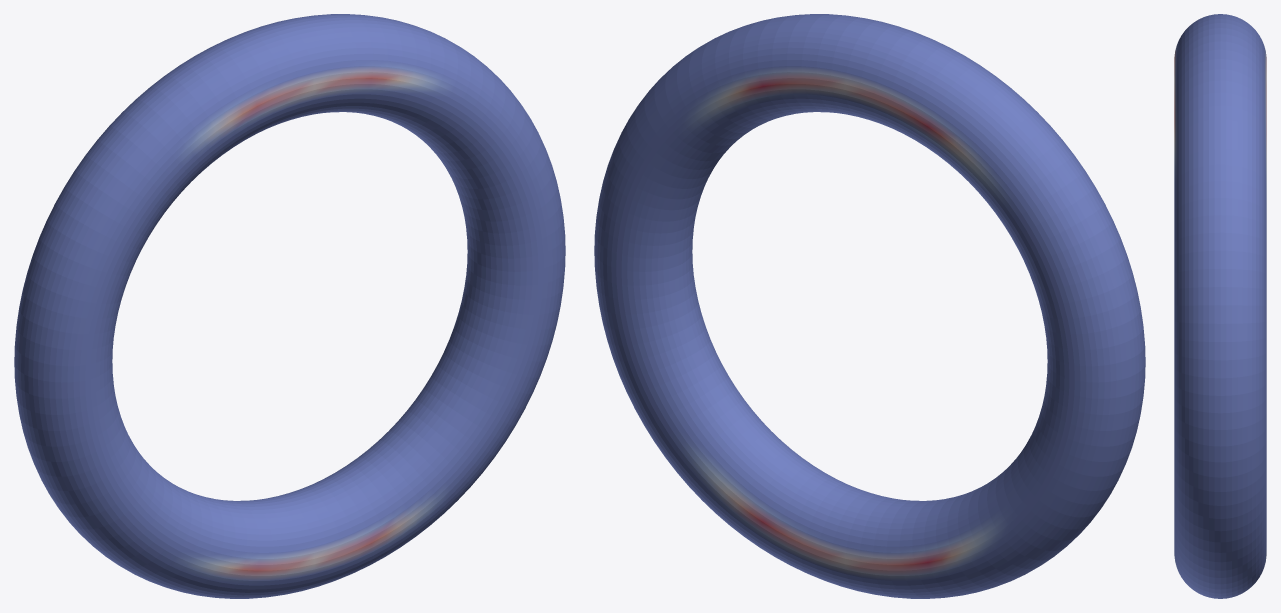
3 renders of one model, left to right at view 1: azimuth 30°, elevation 25°; view 2: azimuth 150°, elevation 25°; view 3: azimuth 270°, elevation 25°, orthographic. The views are drawn at different scales.
Parts seen in each view (by area): view 1: world; view 2: world; view 3: world.
Boxes of the visible parts, box(x1,y1,x2,y2) form: world: box(14, 14, 565, 598); world: box(594, 14, 1145, 598); world: box(1174, 14, 1266, 598).
Size of the model in its own units: 12.67 by 12.67 by 2.
